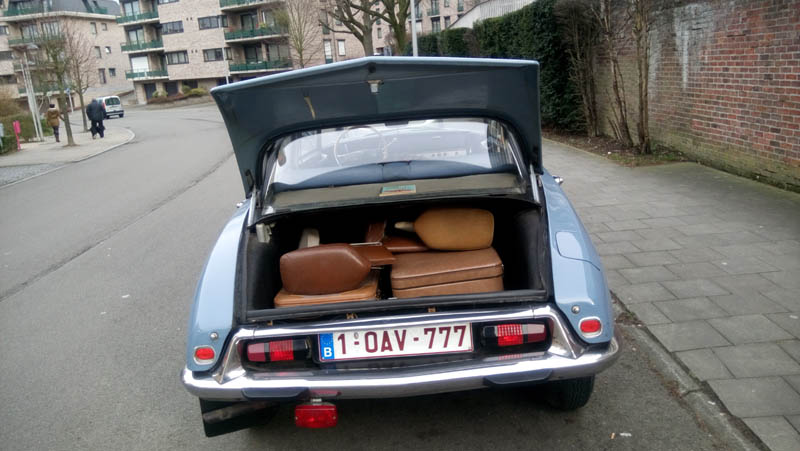licenceplate: (317, 322, 471, 360)
